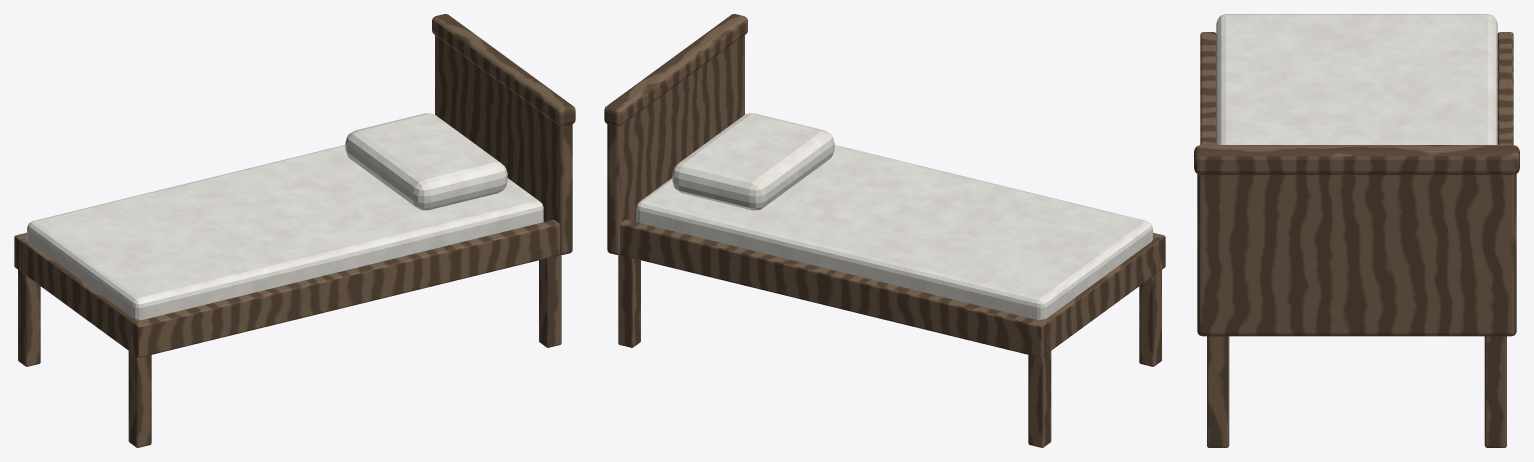
Rendered from FUR_Bed.fbx.
3 views of the same model, side by side, from view 1: azimuth 30°, elevation 25°; view 2: azimuth 150°, elevation 25°; view 3: azimuth 270°, elevation 25° (orthographic). The views are drawn at different scales.
Visible parts, largest first — view 1: Bed_Mattress, Bed_Frame, Bed_Pillow; view 2: Bed_Mattress, Bed_Frame, Bed_Pillow; view 3: Bed_Frame, Bed_Mattress.
Part boxes in pixels (x1,y1,x2,y2): Bed_Mattress: (27,145,543,320); Bed_Frame: (14,14,575,447); Bed_Pillow: (345,113,507,210); Bed_Mattress: (636,145,1152,320); Bed_Frame: (604,14,1165,447); Bed_Pillow: (672,113,834,210); Bed_Frame: (1194,32,1519,447); Bed_Mattress: (1216,14,1497,144).
Bounding box in the file's own units: 198 × 104 × 102.
